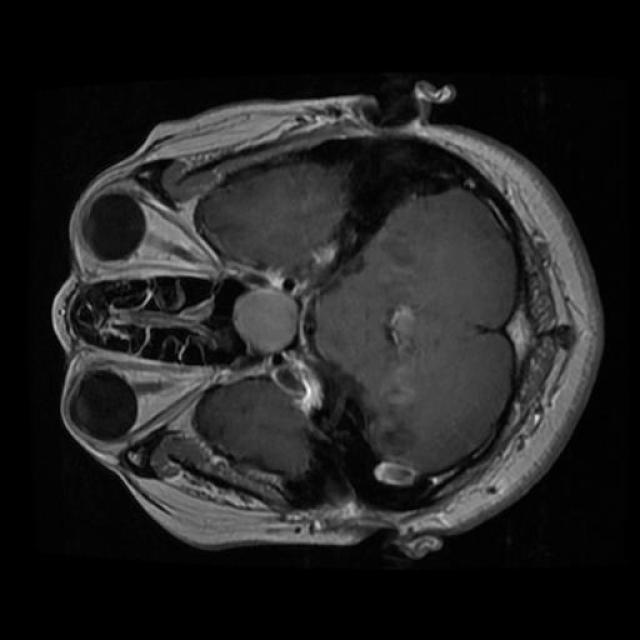Pituitary: (233, 290, 297, 355)
